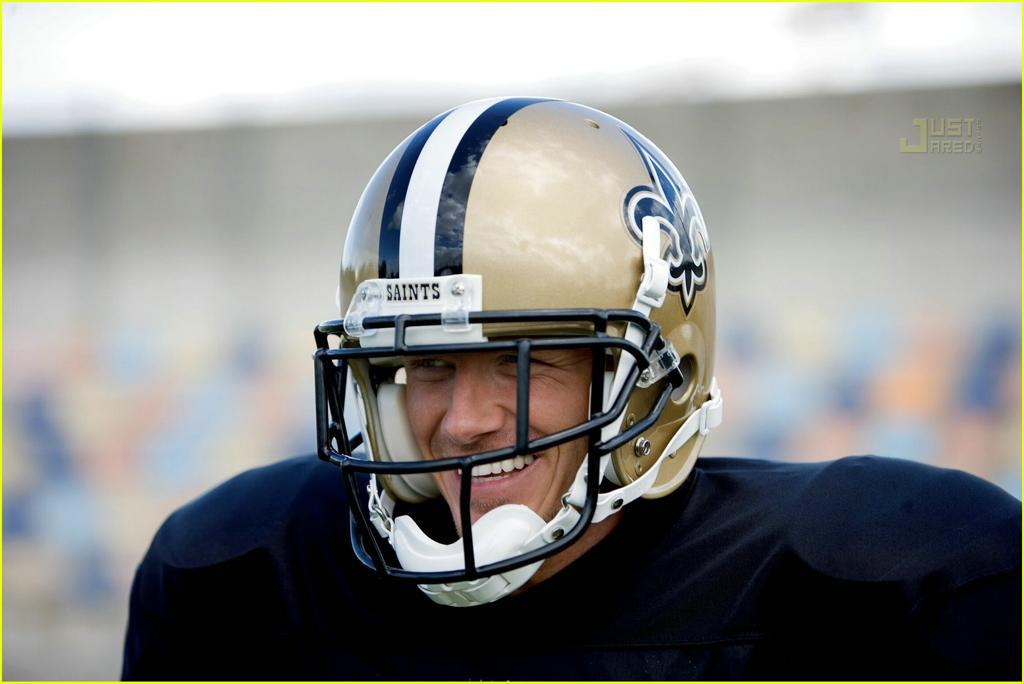face: (403, 273, 599, 557)
